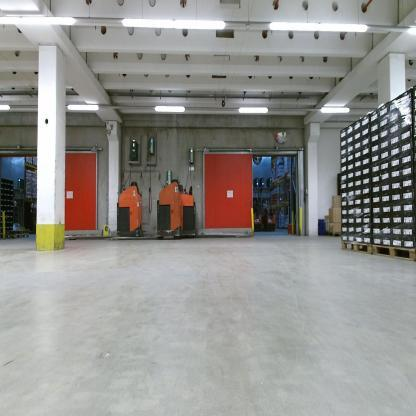pallets: (341, 240, 415, 262)
